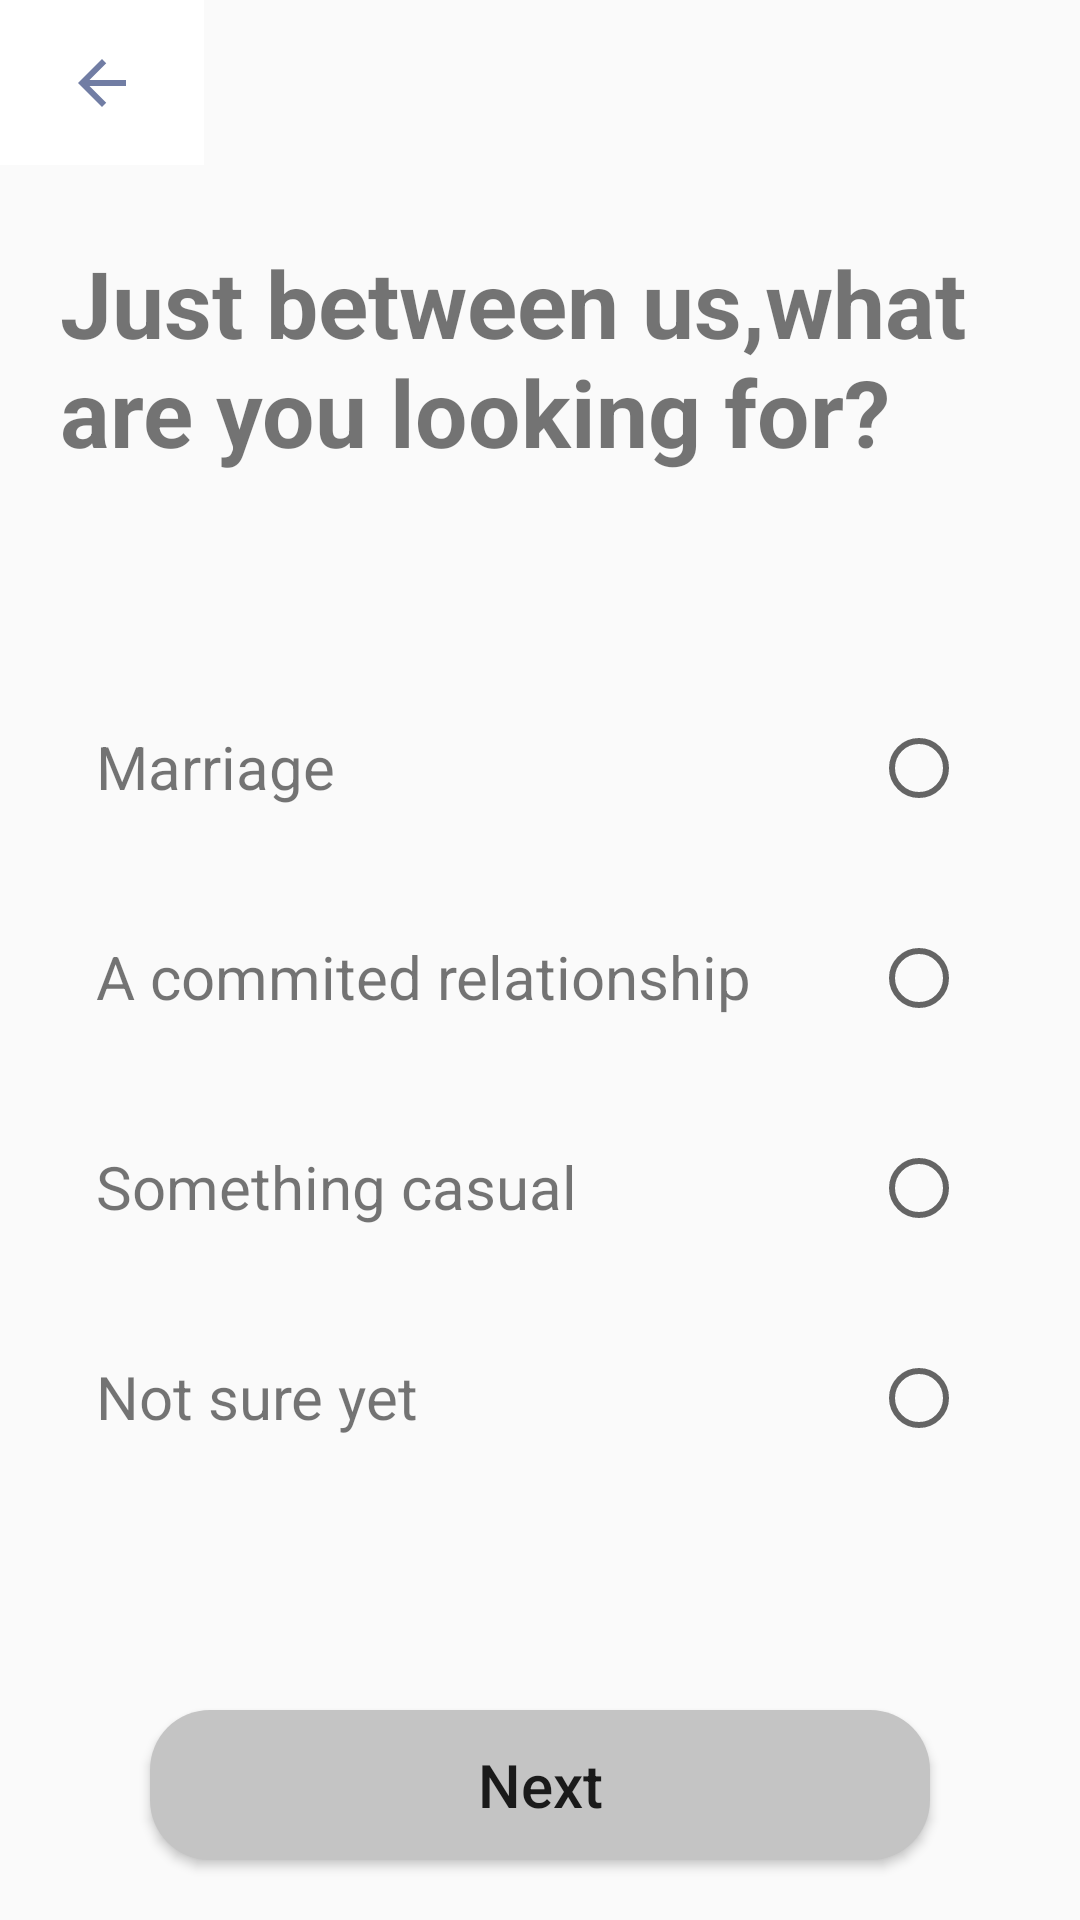

Locate icon controls on the screen. Image size 1080 × 1920, boxes as (x1, y1, x2, y2).
arrow back: (78, 59, 126, 107)
